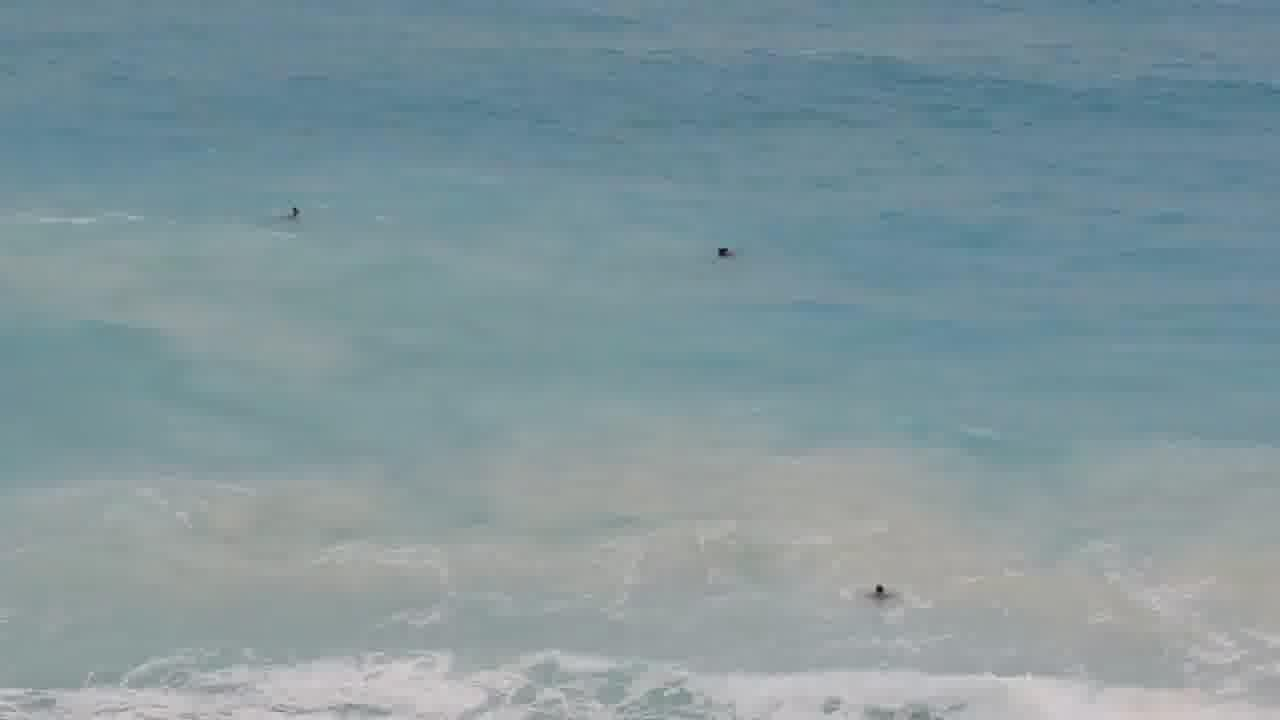human: (846, 585, 913, 613), (703, 232, 741, 276), (277, 195, 310, 233)
